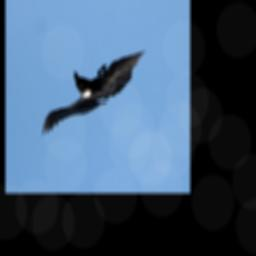Crow: (41, 50, 146, 137)
